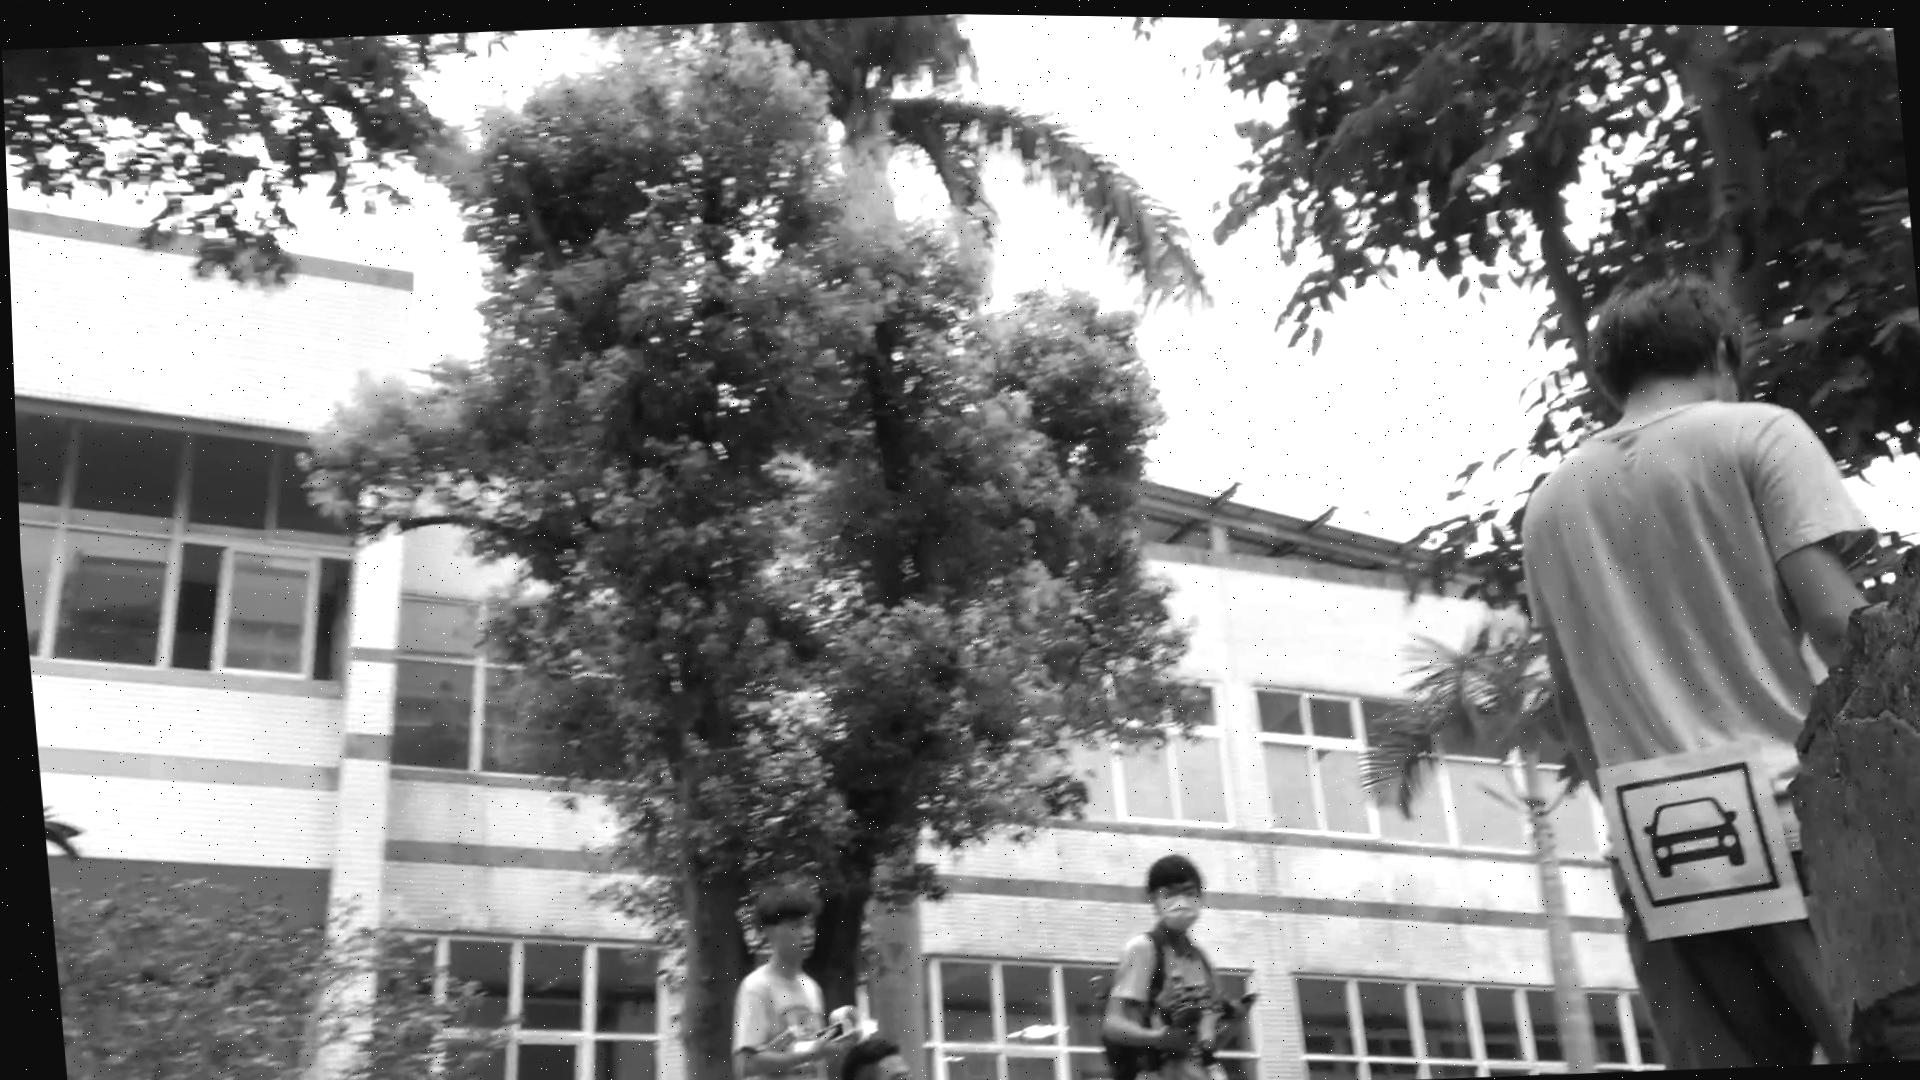car_img: (1607, 753, 1774, 906)
